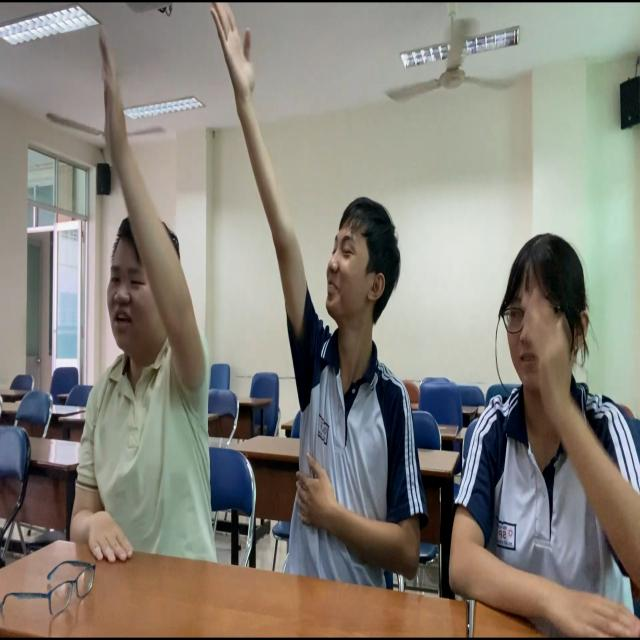raise_hand: (213, 3, 416, 585), (48, 10, 209, 585), (453, 219, 640, 631)
